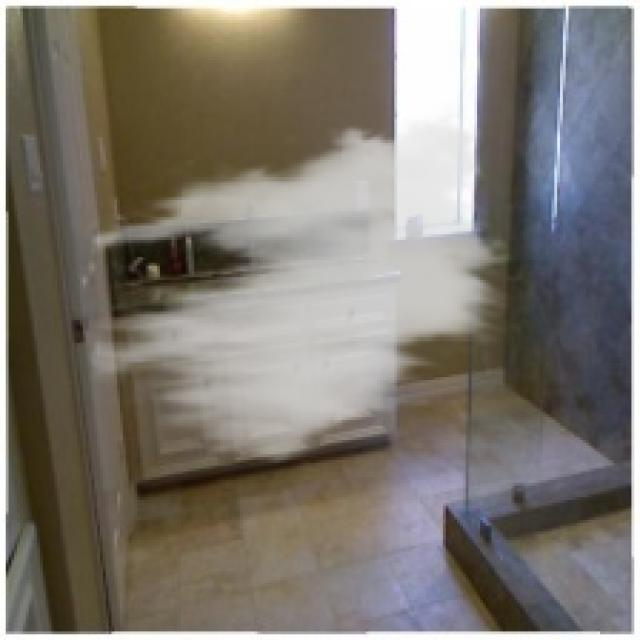smoke: (92, 100, 514, 474)
